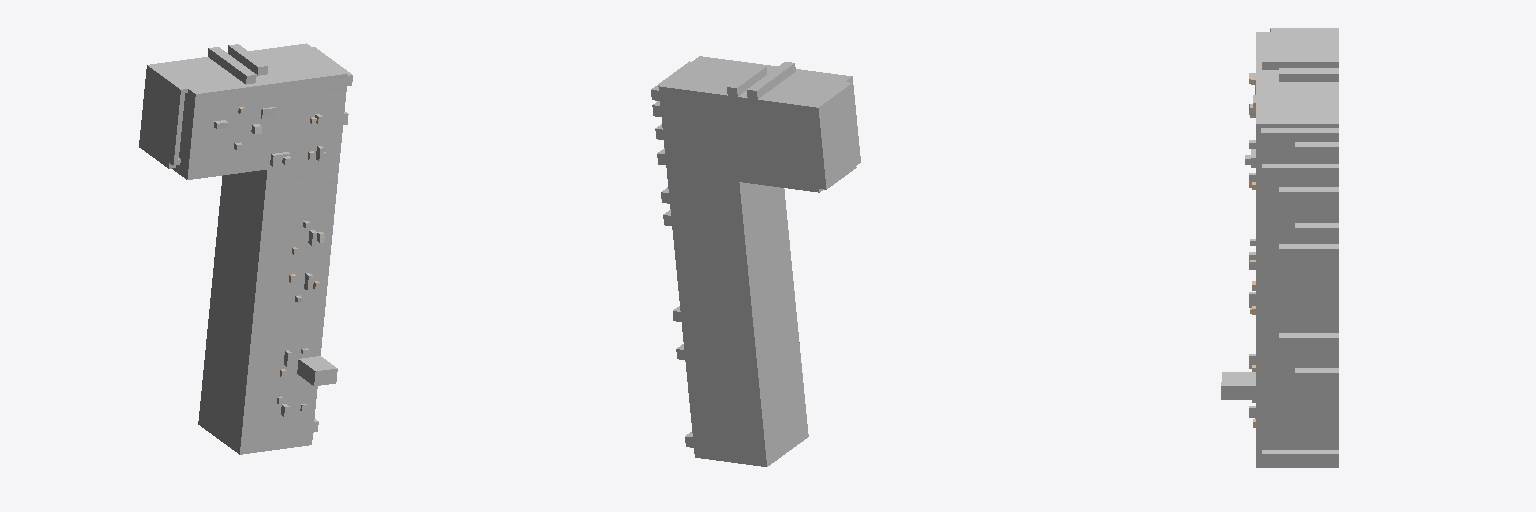
File: talo_Build0000077.obj
3 renders of one model, left to right at view 1: azimuth 30°, elevation 25°; view 2: azimuth 150°, elevation 25°; view 3: azimuth 270°, elevation 25°, orthographic.
Size of the model in its own units: 36.87 by 76.54 by 21.29.